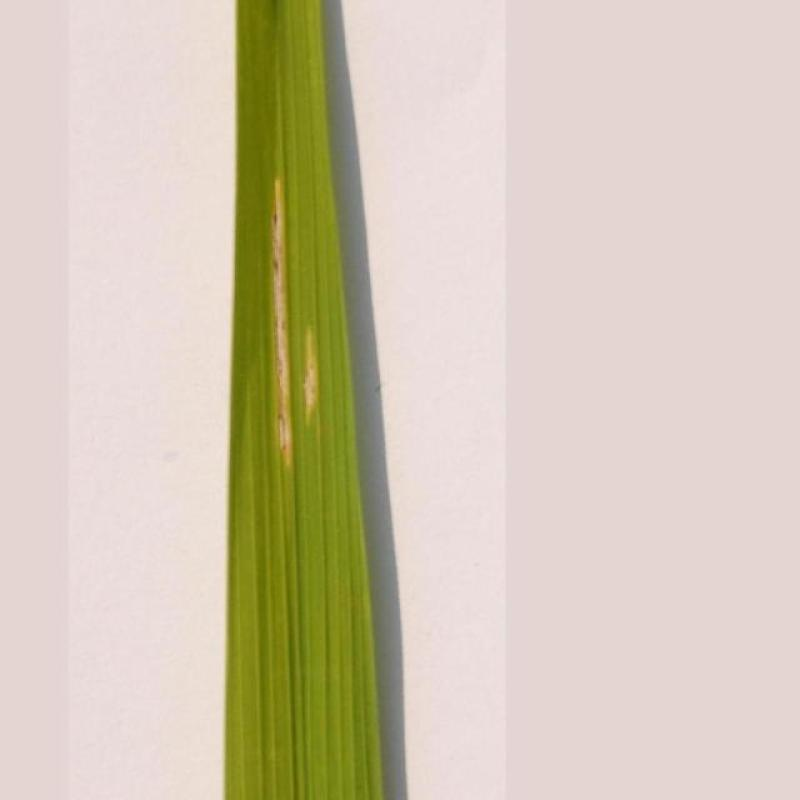Bacterial_Leaf_Blight: (255, 158, 323, 482)
